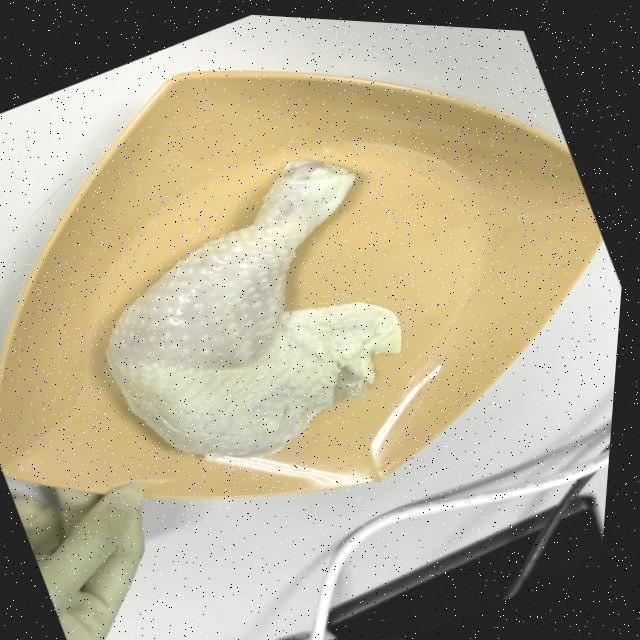quater: (117, 163, 353, 443)
